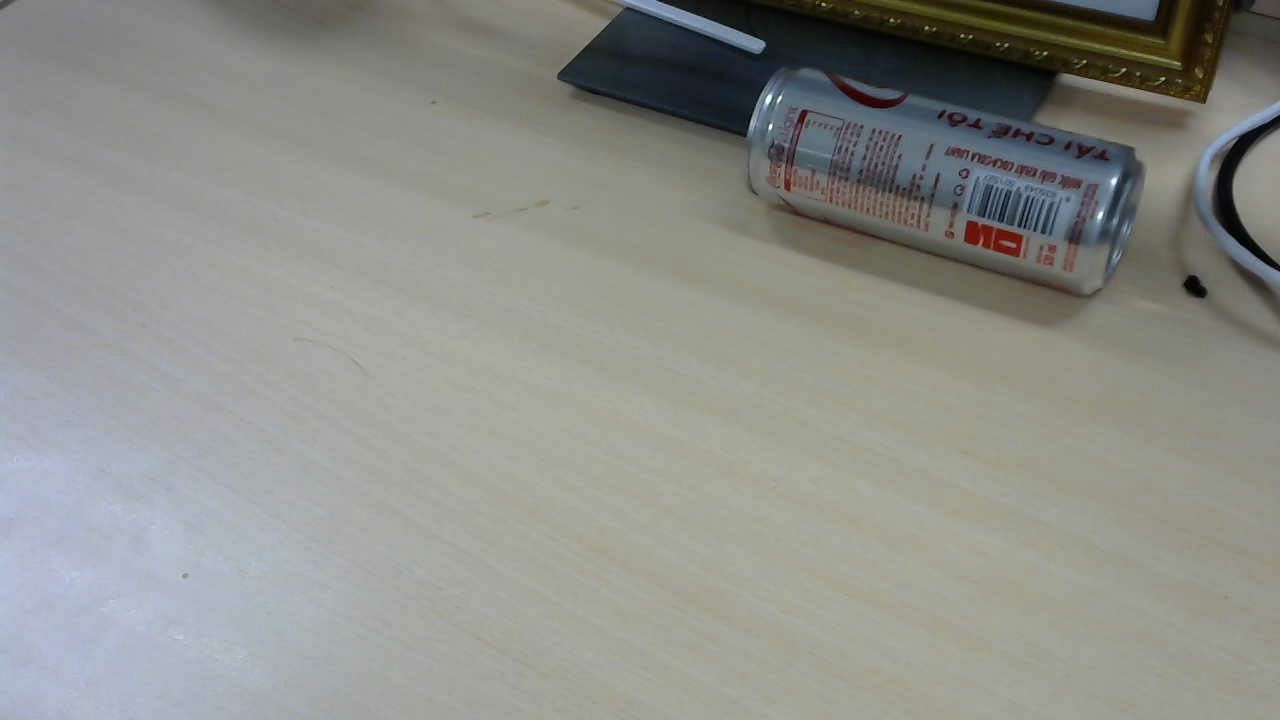Coca_Cola: (750, 67, 1151, 302)
